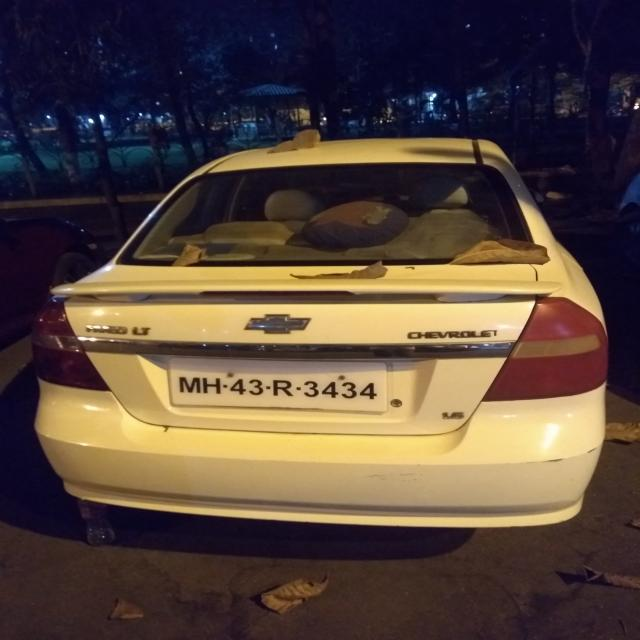Number-Plate: (176, 360, 390, 409)
